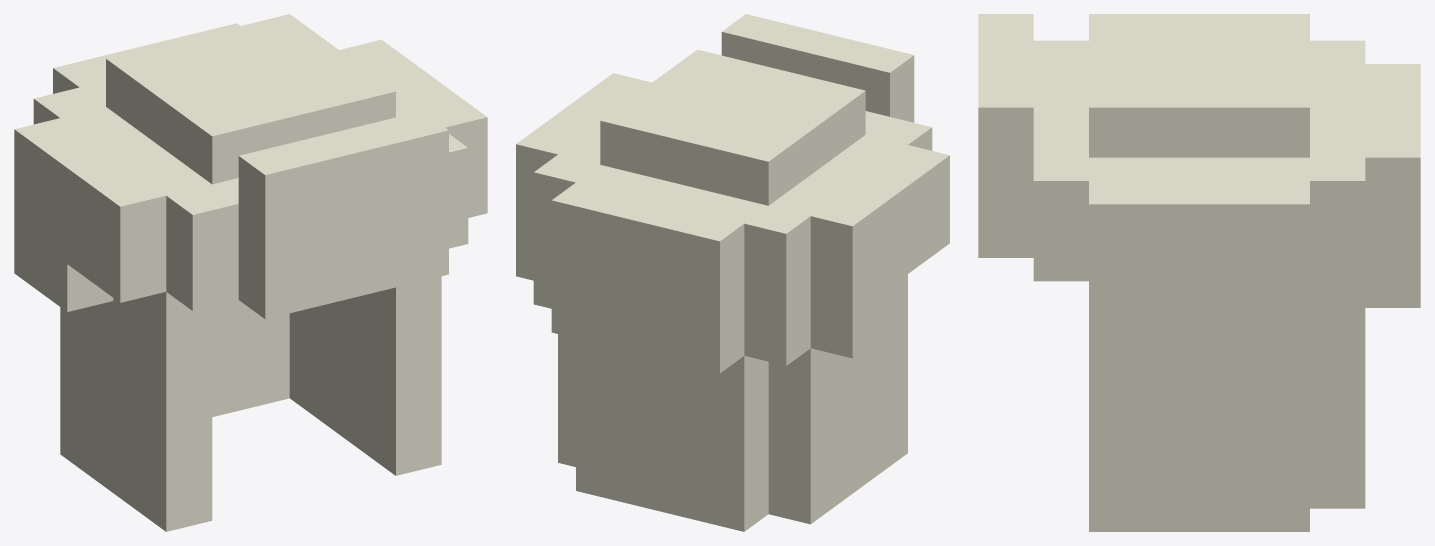
Rendered from character-188-helm_lgt_1d_sh.obj.
3 views of the same model, side by side, from view 1: azimuth 30°, elevation 25°; view 2: azimuth 150°, elevation 25°; view 3: azimuth 270°, elevation 25° (orthographic). The views are drawn at different scales.
Parts seen in each view (by area): view 1: helm_lgt_1d_sh; view 2: helm_lgt_1d_sh; view 3: helm_lgt_1d_sh.
Part boxes in pixels (x1,y1,x2,y2): helm_lgt_1d_sh: [14, 14, 487, 531]; helm_lgt_1d_sh: [516, 14, 949, 531]; helm_lgt_1d_sh: [978, 14, 1420, 531].
Size of the model in its own units: 0.8 by 0.8 by 0.8.
Materials: 1 (1 with a texture image).
